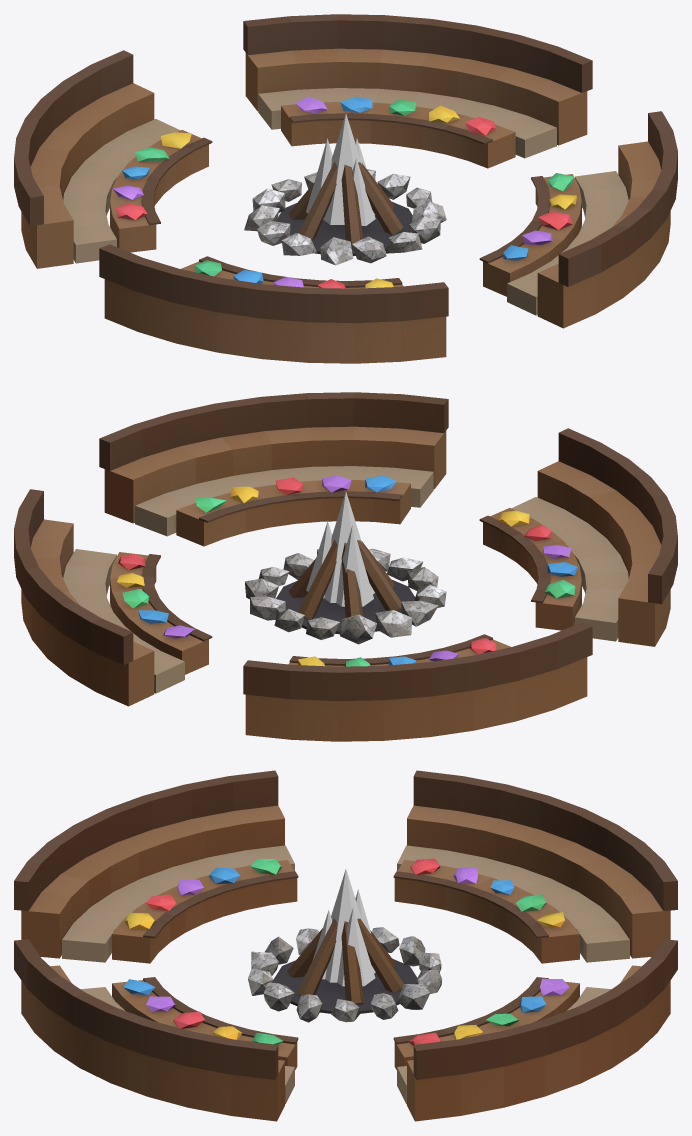
The model's file is hub_fire.fbx.
3 views of the same model, one above another, from view 1: azimuth 30°, elevation 25°; view 2: azimuth 150°, elevation 25°; view 3: azimuth 270°, elevation 25° (orthographic). The views are drawn at different scales.
Visible parts, largest first — view 1: hub_fire_body, hub_fire_body_glow, hub_fire_body4_glow, hub_fire_body3_glow; view 2: hub_fire_body, hub_fire_body_glow, hub_fire_body3_glow, hub_fire_body2_glow; view 3: hub_fire_body, hub_fire_body_glow, hub_fire_body2_glow.
Part boxes in pixels (x1,y1,x2,y2): hub_fire_body: (14, 14, 677, 363); hub_fire_body_glow: (323, 114, 374, 224); hub_fire_body4_glow: (353, 158, 375, 225); hub_fire_body3_glow: (306, 138, 332, 219); hub_fire_body: (14, 392, 677, 741); hub_fire_body_glow: (324, 492, 374, 602); hub_fire_body3_glow: (336, 525, 373, 606); hub_fire_body2_glow: (306, 521, 331, 598); hub_fire_body: (14, 770, 677, 1121); hub_fire_body_glow: (325, 869, 375, 982); hub_fire_body2_glow: (337, 907, 375, 986).
Size of the model in its own units: 2700 by 545 by 2700.
Materials: 2 (1 with a texture image).
